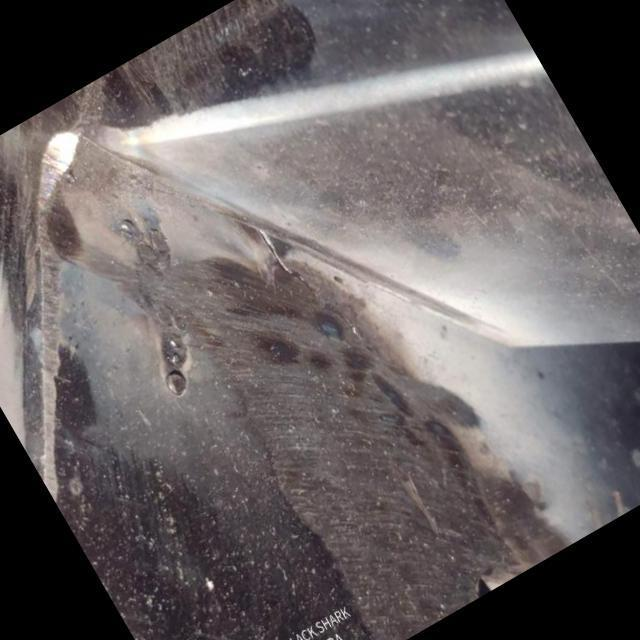defect: (252, 221, 365, 346)
